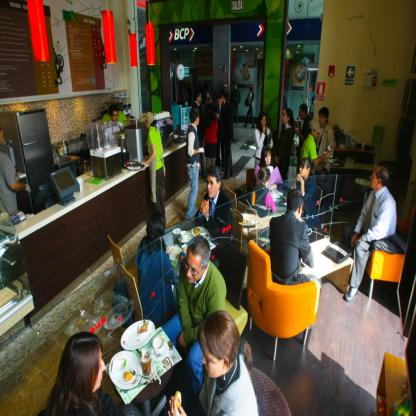face: (202, 337, 225, 379), (87, 350, 106, 394), (186, 248, 206, 284), (207, 176, 219, 199), (370, 168, 380, 188), (1, 117, 6, 141), (265, 151, 272, 165), (314, 127, 321, 140), (300, 163, 307, 176), (112, 112, 119, 124), (265, 176, 272, 187), (320, 113, 326, 125), (283, 111, 288, 125), (262, 116, 267, 127), (300, 108, 305, 119), (145, 120, 150, 129), (217, 100, 222, 108), (197, 113, 200, 125), (222, 94, 226, 102), (199, 95, 202, 104), (373, 79, 377, 85), (235, 84, 237, 90), (207, 94, 209, 99), (225, 86, 227, 91), (250, 89, 252, 93)
